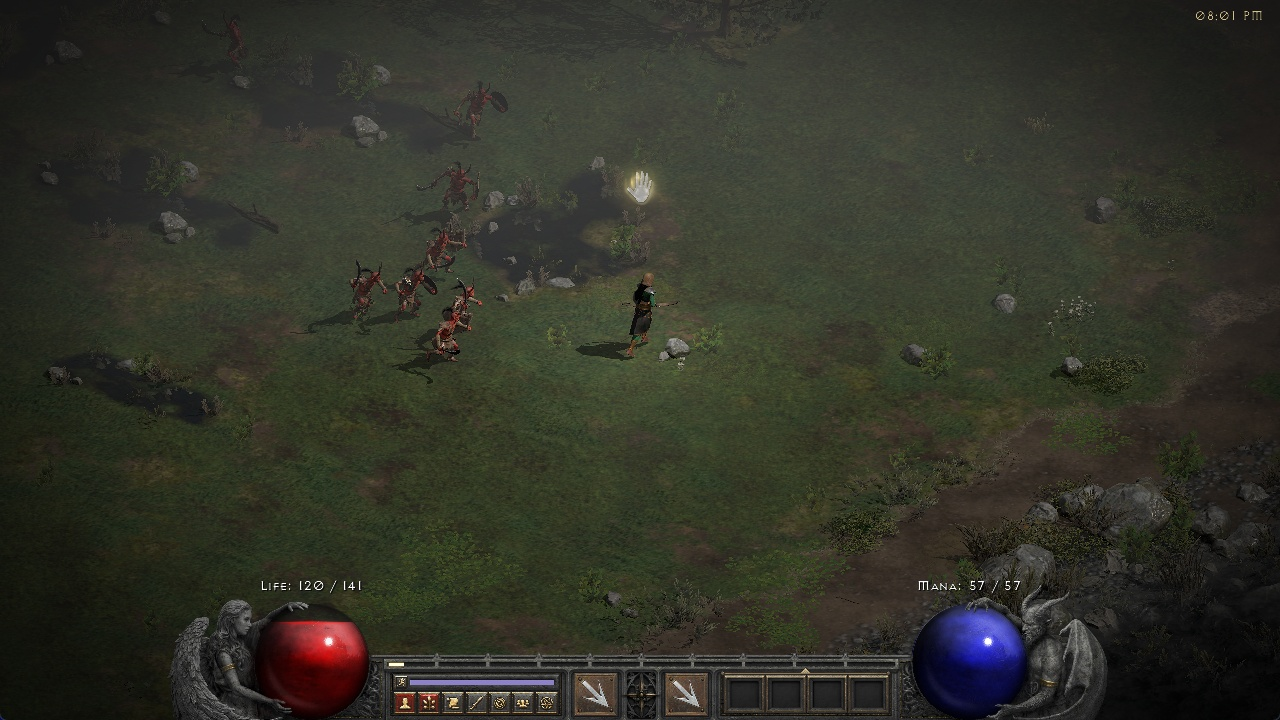fallen: (202, 14, 255, 73), (455, 80, 507, 138), (426, 162, 485, 211), (347, 259, 388, 322), (433, 312, 472, 364), (417, 228, 461, 271), (398, 271, 435, 315), (458, 280, 484, 314)
